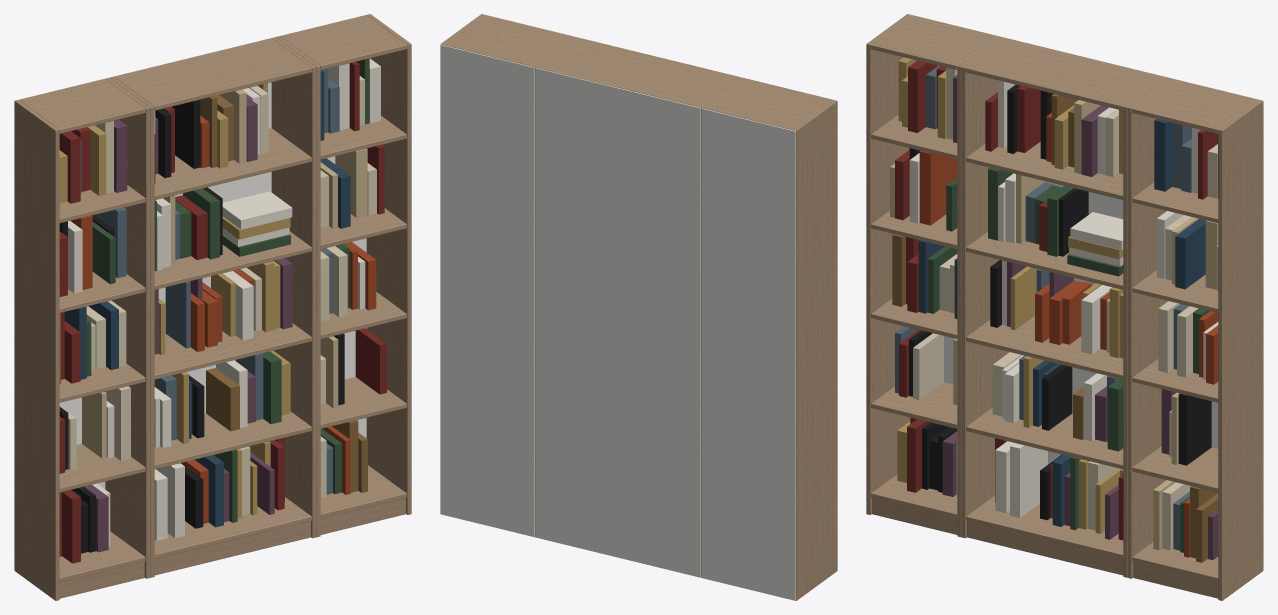
The model's file is bookcase-vu-wotan.glb.
3 views of the same model, side by side, from view 1: azimuth 30°, elevation 25°; view 2: azimuth 150°, elevation 25°; view 3: azimuth 330°, elevation 25° (orthographic).
Parts seen in each view (by area): view 1: object 1, decor (×12), object 14; view 2: object 14, object 1; view 3: object 1, decor (×12), object 14.
Part boxes in pixels (bbox=[...]): object 1: bbox=[14, 14, 411, 600]; decor (×12): bbox=[59, 58, 386, 563]; object 14: bbox=[14, 14, 369, 569]; object 14: bbox=[440, 44, 795, 600]; object 1: bbox=[440, 14, 837, 600]; object 1: bbox=[866, 14, 1263, 600]; decor (×12): bbox=[890, 57, 1218, 562]; object 14: bbox=[908, 14, 1263, 569].
Size of the model in its own units: 1.5 by 1.89 by 0.3039.
14 materials, 1 textured.
